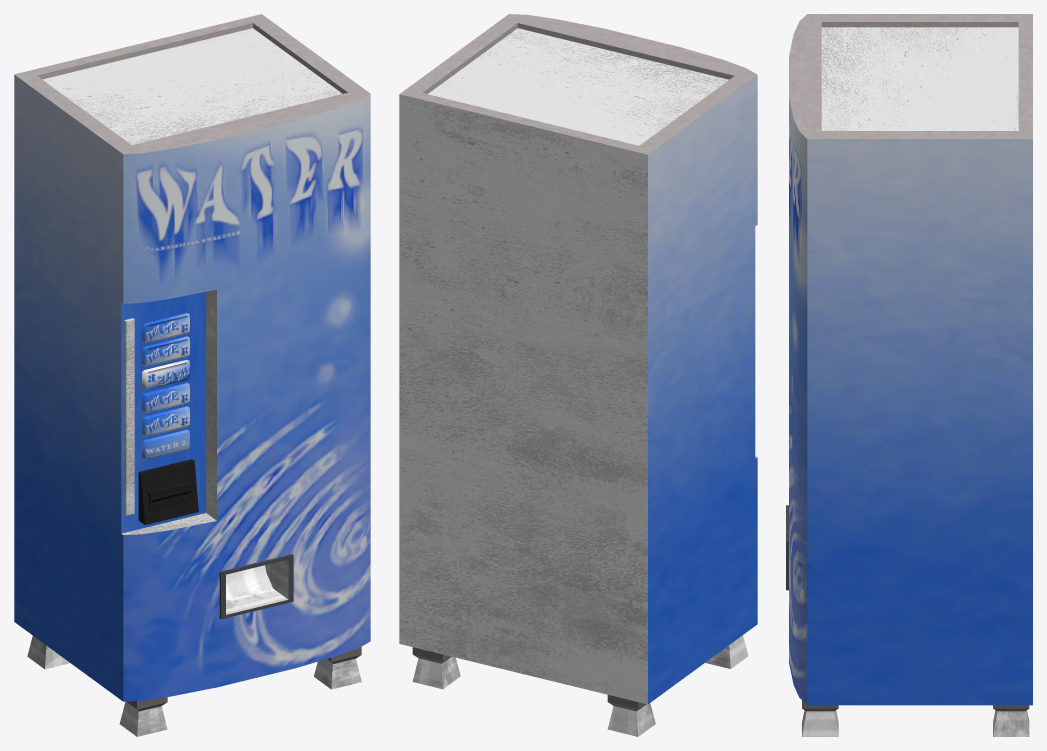
The model's file is VendingOne.fbx.
3 renders of one model, left to right at view 1: azimuth 30°, elevation 25°; view 2: azimuth 150°, elevation 25°; view 3: azimuth 270°, elevation 25°, orthographic. The views are drawn at different scales.
Parts seen in each view (by area): view 1: Vending1; view 2: Vending1; view 3: Vending1.
Part boxes in pixels (bbox=[...]): Vending1: bbox=[14, 14, 370, 736]; Vending1: bbox=[399, 14, 757, 736]; Vending1: bbox=[786, 14, 1032, 736].
Size of the model in its own units: 73.84 by 166 by 61.62.
